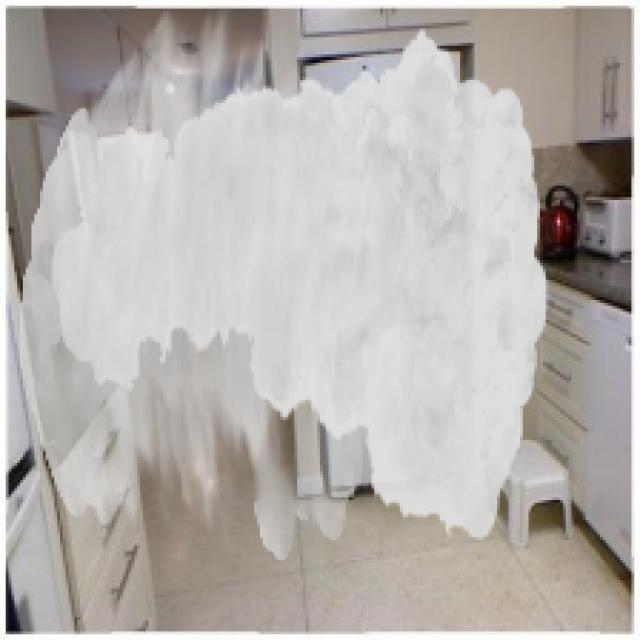smoke: (20, 6, 549, 560)
